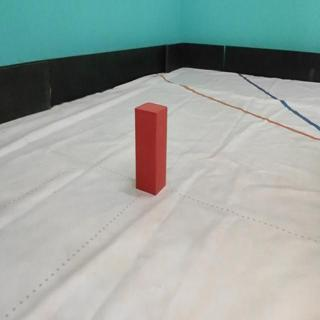redbox: (135, 101, 168, 196)
